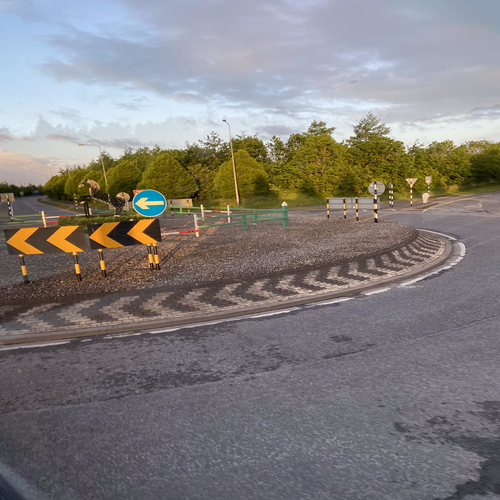Left Turn: (130, 190, 167, 216)
